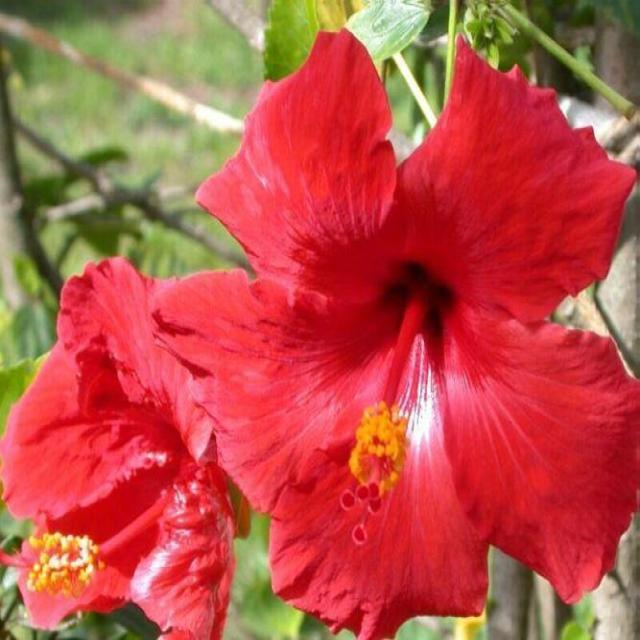hibiscus: (197, 31, 639, 640), (5, 228, 292, 640)
